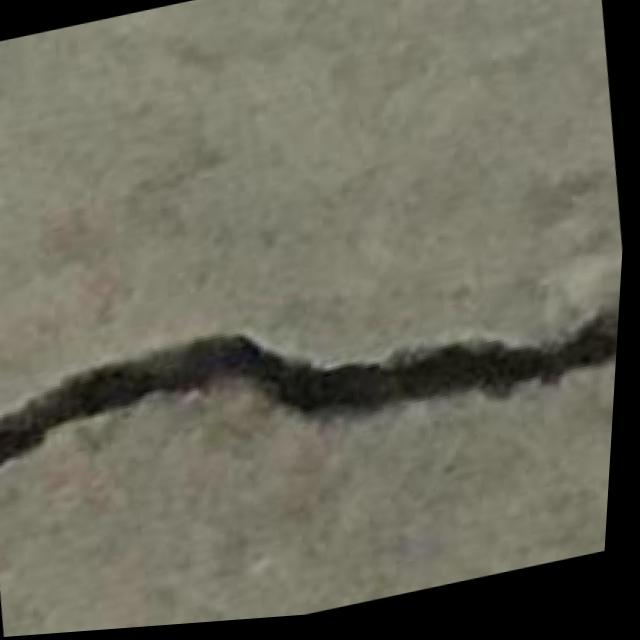Crack: (0, 195, 629, 597), (0, 254, 626, 509)
